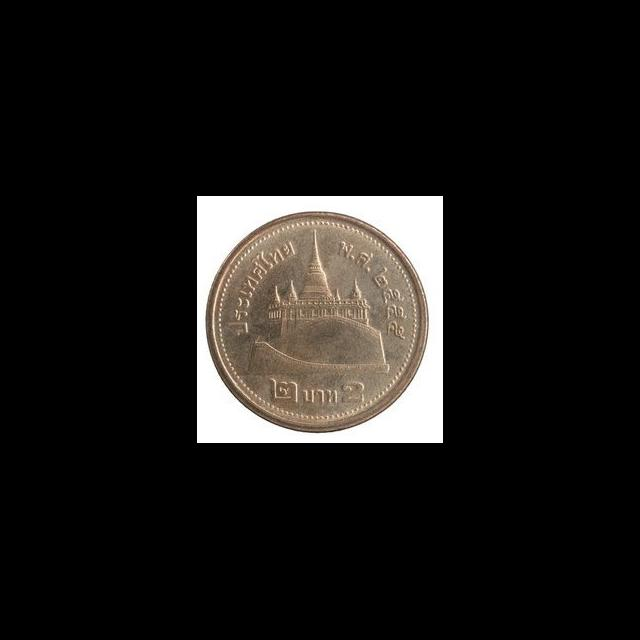2-baht: (197, 200, 436, 441)
